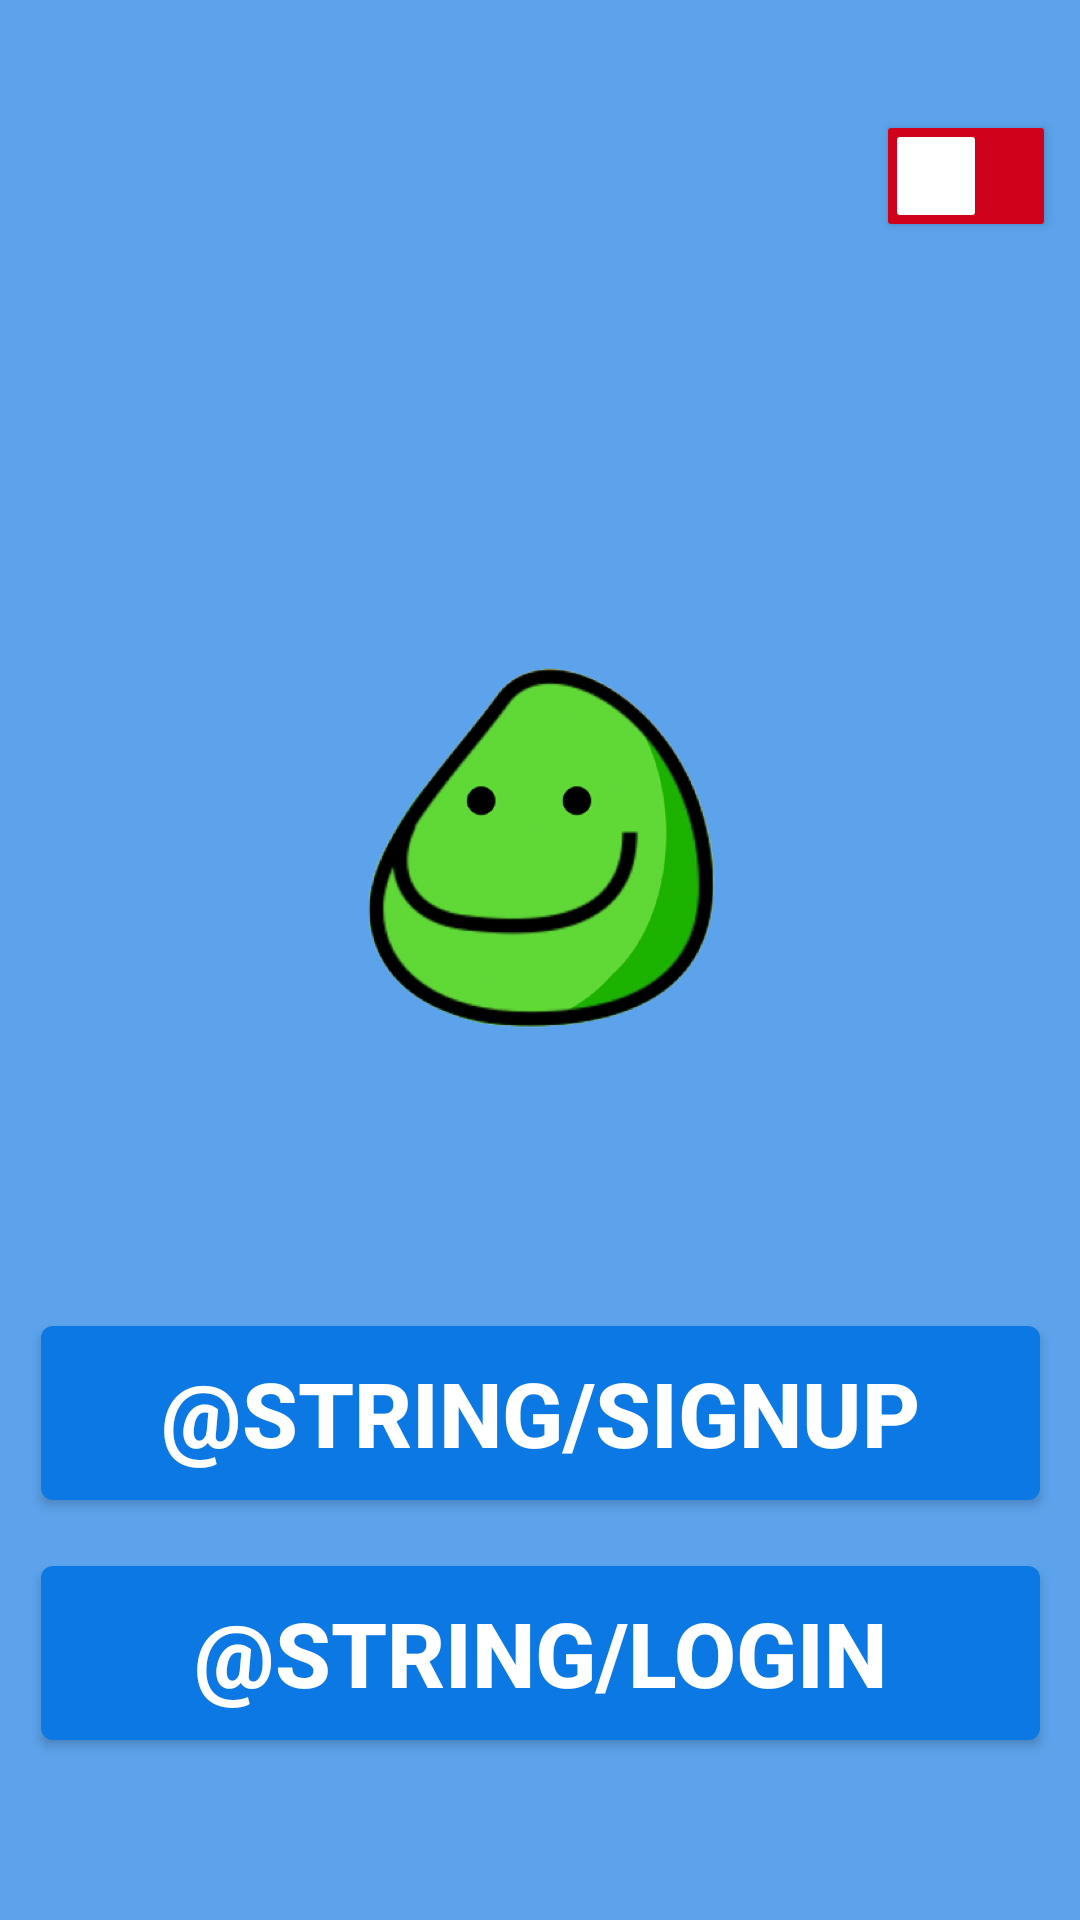

Screen size 1080px x 1920px. Icon name, then its center in pixels as (x,y):
beanhappy: (541,847)
